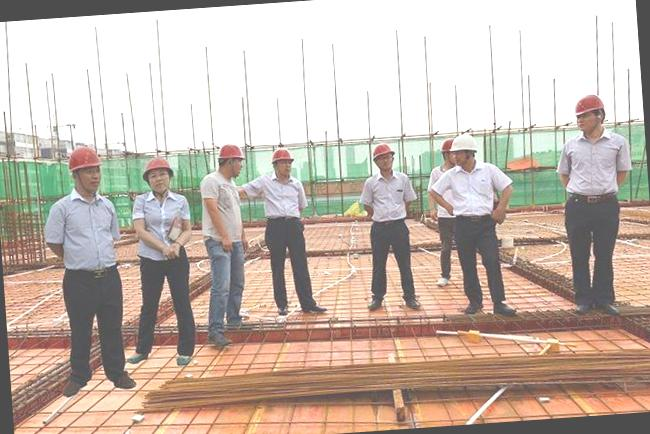helmet: (57, 141, 108, 178), (566, 93, 614, 119), (138, 156, 176, 181), (450, 134, 486, 155), (213, 142, 248, 163), (372, 142, 402, 164), (266, 148, 301, 164)
no_vest: (50, 188, 122, 277), (563, 134, 631, 216), (133, 190, 203, 268), (194, 172, 248, 242), (442, 164, 509, 216), (258, 173, 315, 230), (362, 170, 416, 224)
person: (41, 138, 133, 402), (549, 89, 644, 322), (438, 130, 524, 324), (190, 136, 258, 356), (130, 150, 195, 378), (252, 145, 321, 323), (362, 135, 424, 322)
